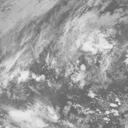cyclone: (30, 37, 96, 96)
